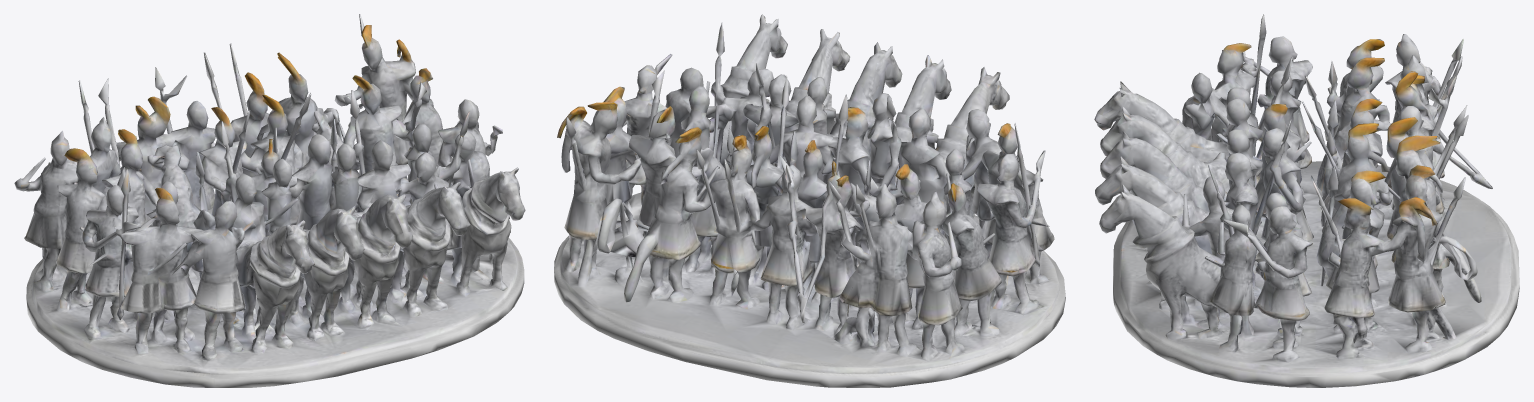
The model's file is terracotta_army.glb.
3 views of the same model, side by side, from view 1: azimuth 30°, elevation 25°; view 2: azimuth 150°, elevation 25°; view 3: azimuth 270°, elevation 25° (orthographic). The views are drawn at different scales.
Visible parts, largest first — view 1: Mesh_0; view 2: Mesh_0; view 3: Mesh_0.
Boxes of the visible parts, x1,y1,x2,y2 form: Mesh_0: (14,14,525,387); Mesh_0: (554,14,1065,387); Mesh_0: (1094,14,1519,387).
Size of the model in its own units: 1.9 by 0.8087 by 1.6.
1 material, 1 textured.
